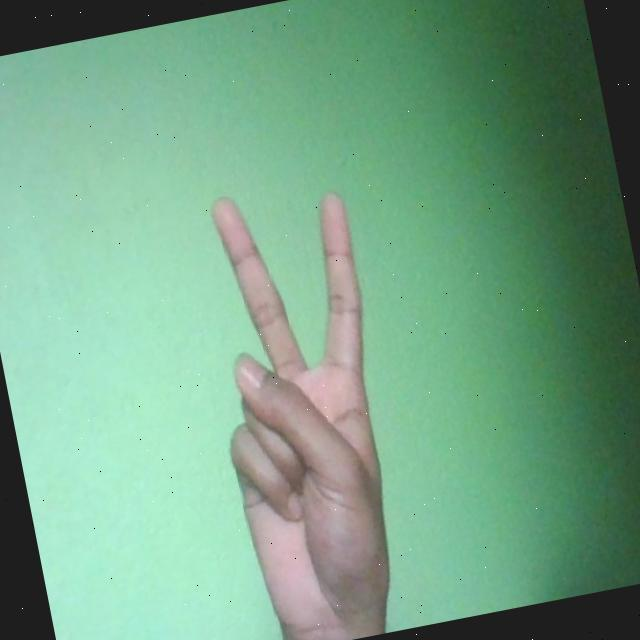Fist: (182, 176, 426, 640)
